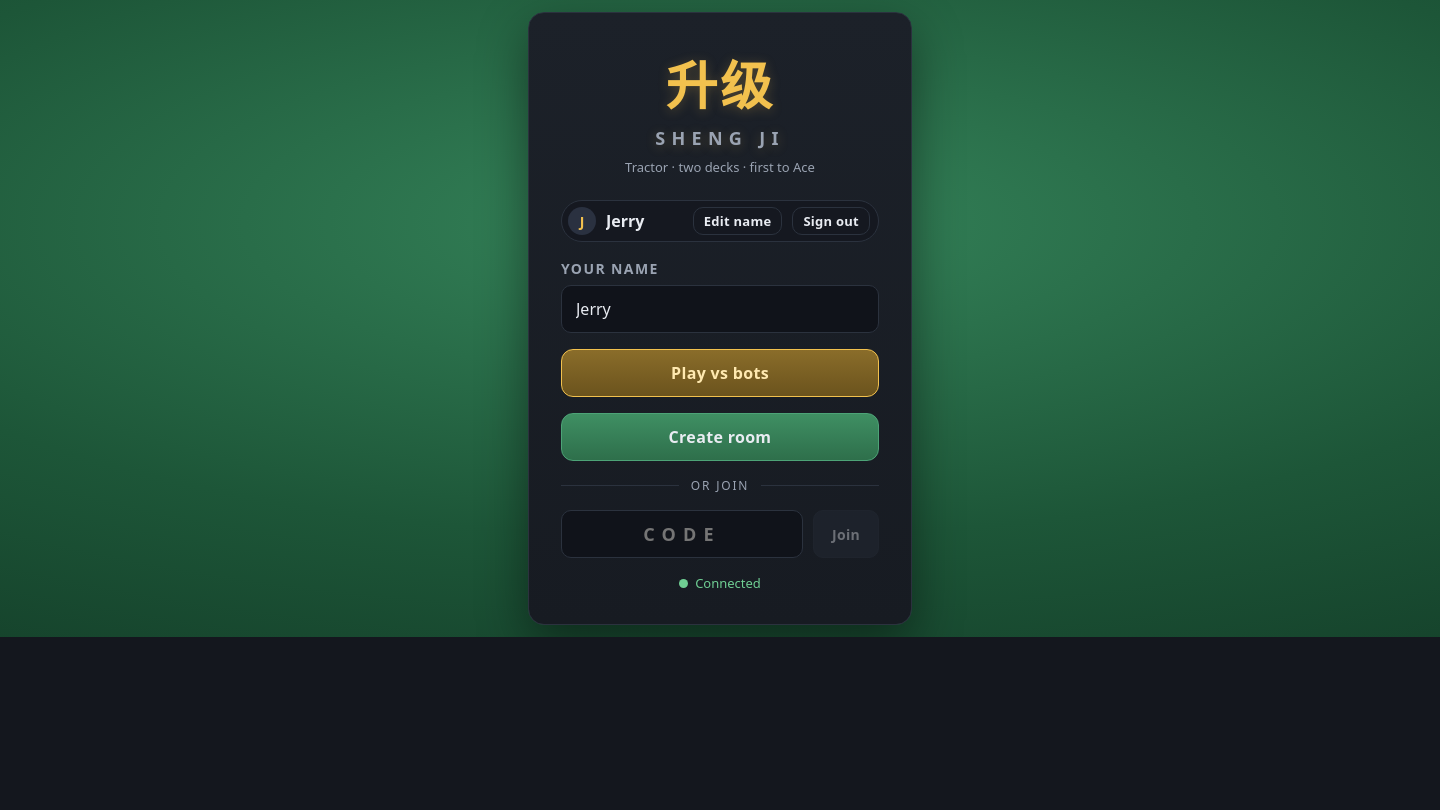
the lobby with sign-in ON › a sign-out the server refused keeps the chip and shows a retryable error
Click the button with class "account-signout" at (831, 221), box [792, 207, 870, 235]
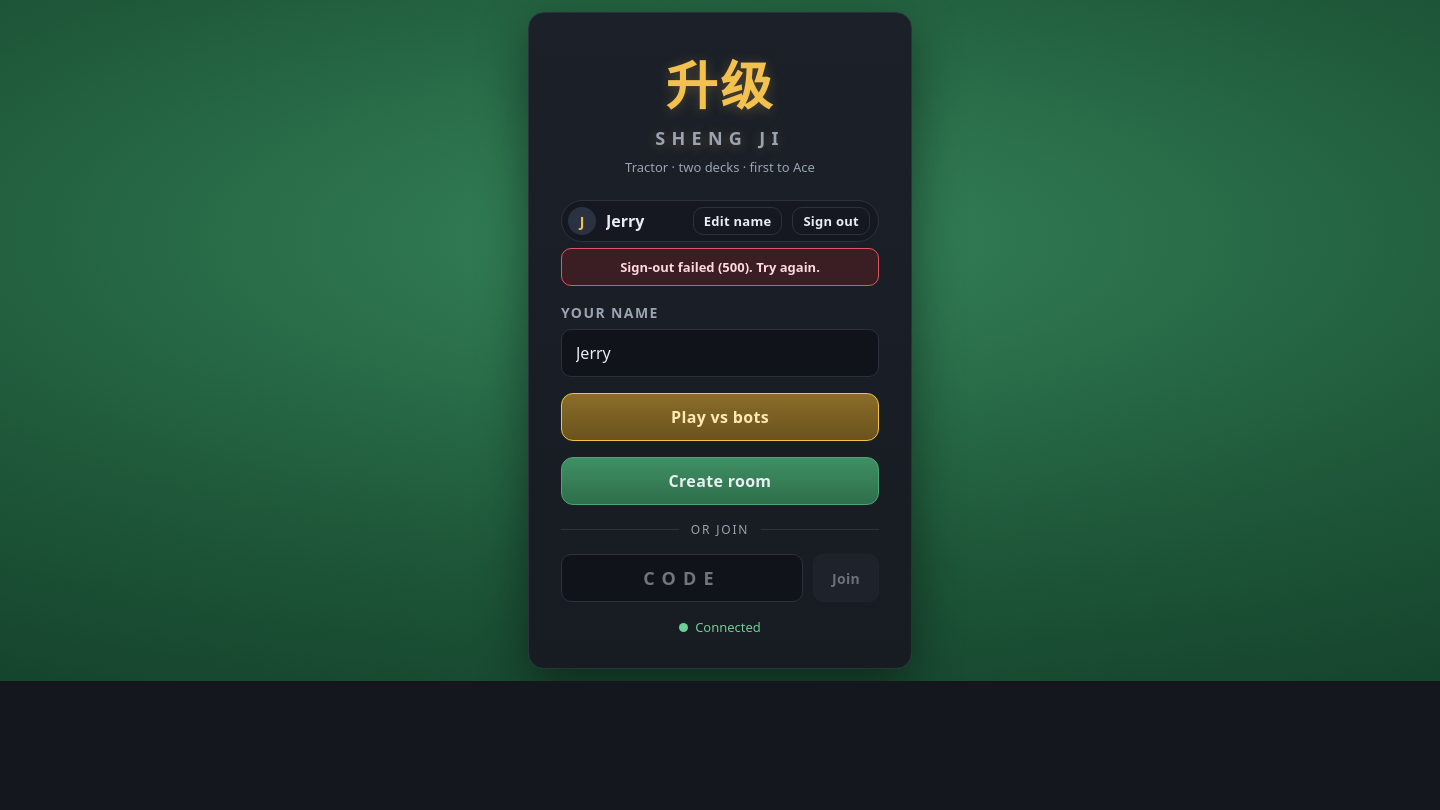
Check: the element with class "account-chip" is shown, box [561, 200, 879, 242]
Check: the message with class "account-error" shows "Try again", box [620, 258, 820, 276]
Click the button with class "account-signout" at (831, 221), box [792, 207, 870, 235]
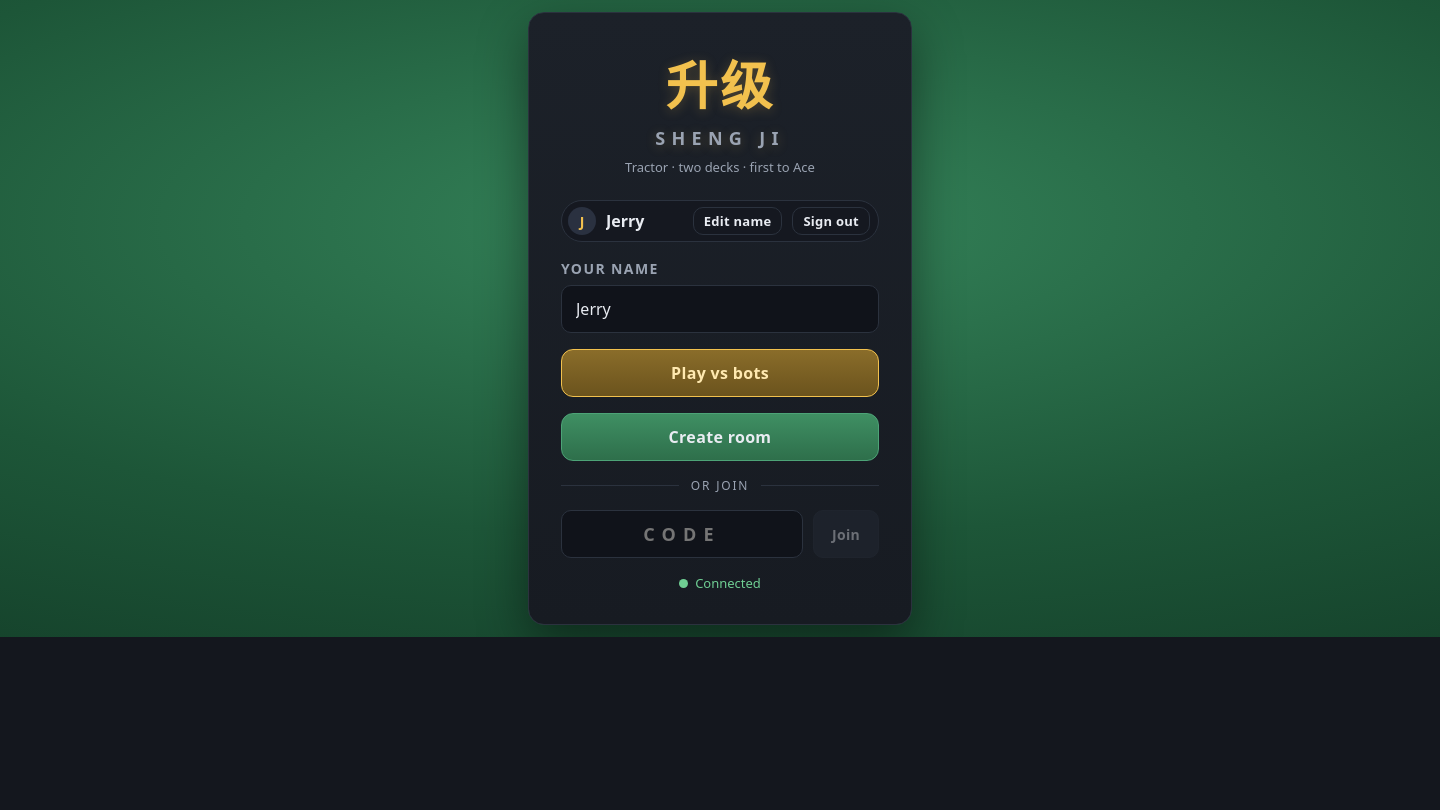
Check: the message with class "account-error" is gone
